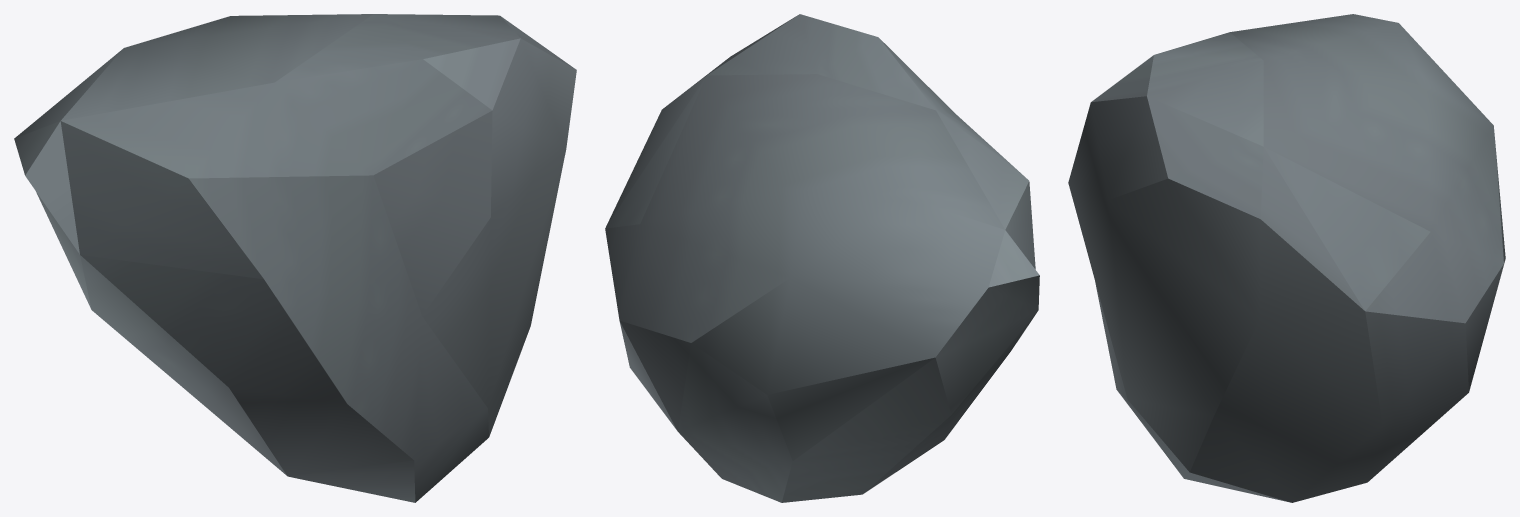
Rendered from Rock_3_A_Color1.gltf.
3 renders of one model, left to right at view 1: azimuth 30°, elevation 25°; view 2: azimuth 150°, elevation 25°; view 3: azimuth 270°, elevation 25°, orthographic. The views are drawn at different scales.
Parts seen in each view (by area): view 1: Rock_3_A_Color1; view 2: Rock_3_A_Color1; view 3: Rock_3_A_Color1.
Part boxes in pixels (box(x1,y1,x2,y2)): Rock_3_A_Color1: box(14, 14, 576, 502); Rock_3_A_Color1: box(605, 14, 1039, 502); Rock_3_A_Color1: box(1068, 14, 1505, 502).
Size of the model in its own units: 0.9563 by 0.8589 by 0.8075.
Materials: 1 (1 with a texture image).
